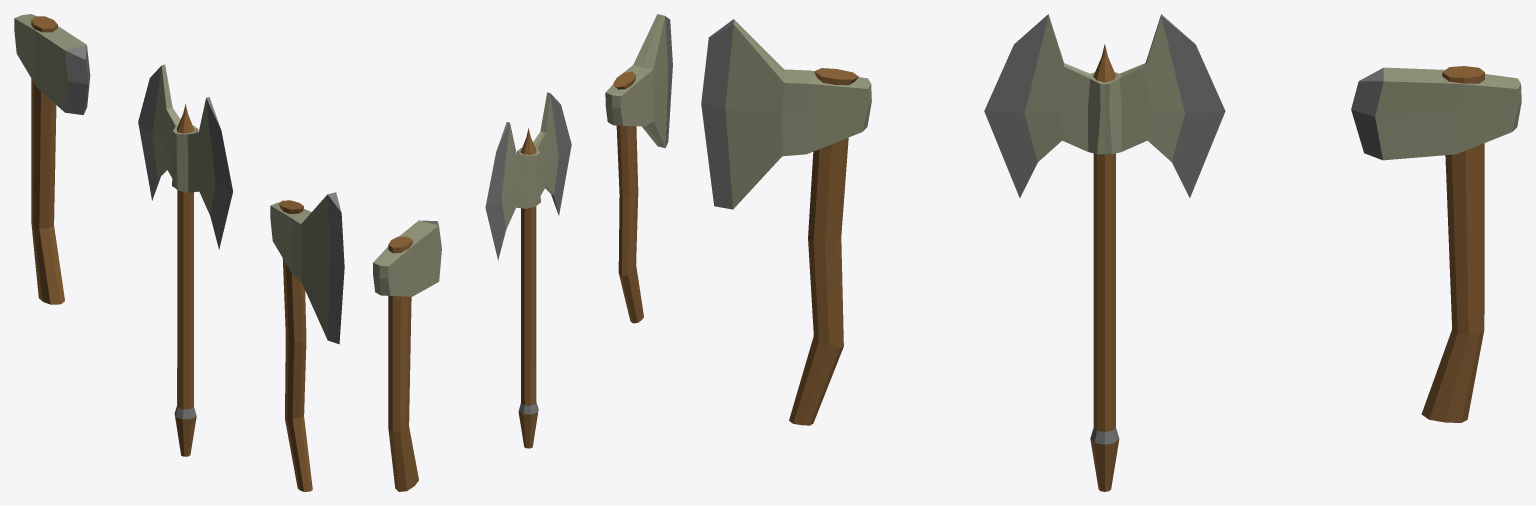
File: Axes.glb
3 views of the same model, side by side, from view 1: azimuth 30°, elevation 25°; view 2: azimuth 150°, elevation 25°; view 3: azimuth 270°, elevation 25° (orthographic). The views are drawn at different scales.
Visible parts, largest first — view 1: Axe Head.005, Axe Head.004, Axe Handle.003, Axe Head.003, Axe Handle.005, Axe Handle.004; view 2: Axe Head.005, Axe Head.004, Axe Handle.003, Axe Handle.005, Axe Handle.004, Axe Head.003; view 3: Axe Head.005, Axe Head.004, Axe Head.003, Axe Handle.003, Axe Handle.004, Axe Handle.005.
Part boxes in pixels (box(x1,y1,x2,y2)): Axe Head.005: box(138, 64, 232, 249); Axe Head.004: box(270, 192, 344, 344); Axe Handle.003: box(31, 16, 64, 304); Axe Head.003: box(14, 14, 90, 114); Axe Handle.005: box(174, 104, 196, 456); Axe Handle.004: box(279, 200, 312, 491); Axe Head.005: box(485, 92, 571, 260); Axe Head.004: box(605, 14, 672, 148); Axe Handle.003: box(388, 236, 418, 491); Axe Handle.005: box(518, 128, 538, 448); Axe Handle.004: box(613, 71, 643, 323); Axe Head.003: box(373, 220, 441, 296); Axe Head.005: box(984, 14, 1225, 197); Axe Head.004: box(701, 19, 871, 209); Axe Head.003: box(1351, 67, 1521, 160); Axe Handle.003: box(1421, 66, 1484, 422); Axe Handle.004: box(789, 68, 858, 425); Axe Handle.005: box(1090, 44, 1119, 491).
Bounding box in the file's own units: 0.0765 × 1.23 × 1.92.
